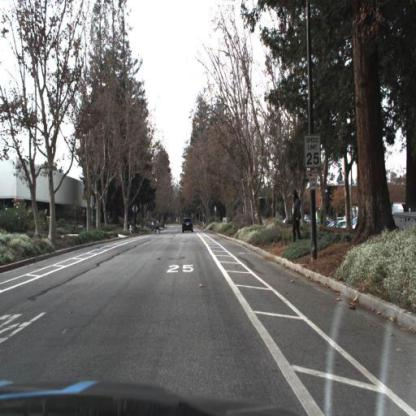biker: (43, 206, 52, 229)
car: (181, 215, 196, 236)
pedestrian: (291, 188, 301, 242), (155, 217, 161, 235)
